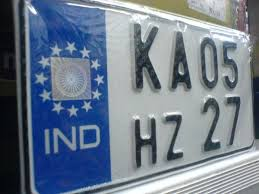inlp: (22, 1, 256, 193)
